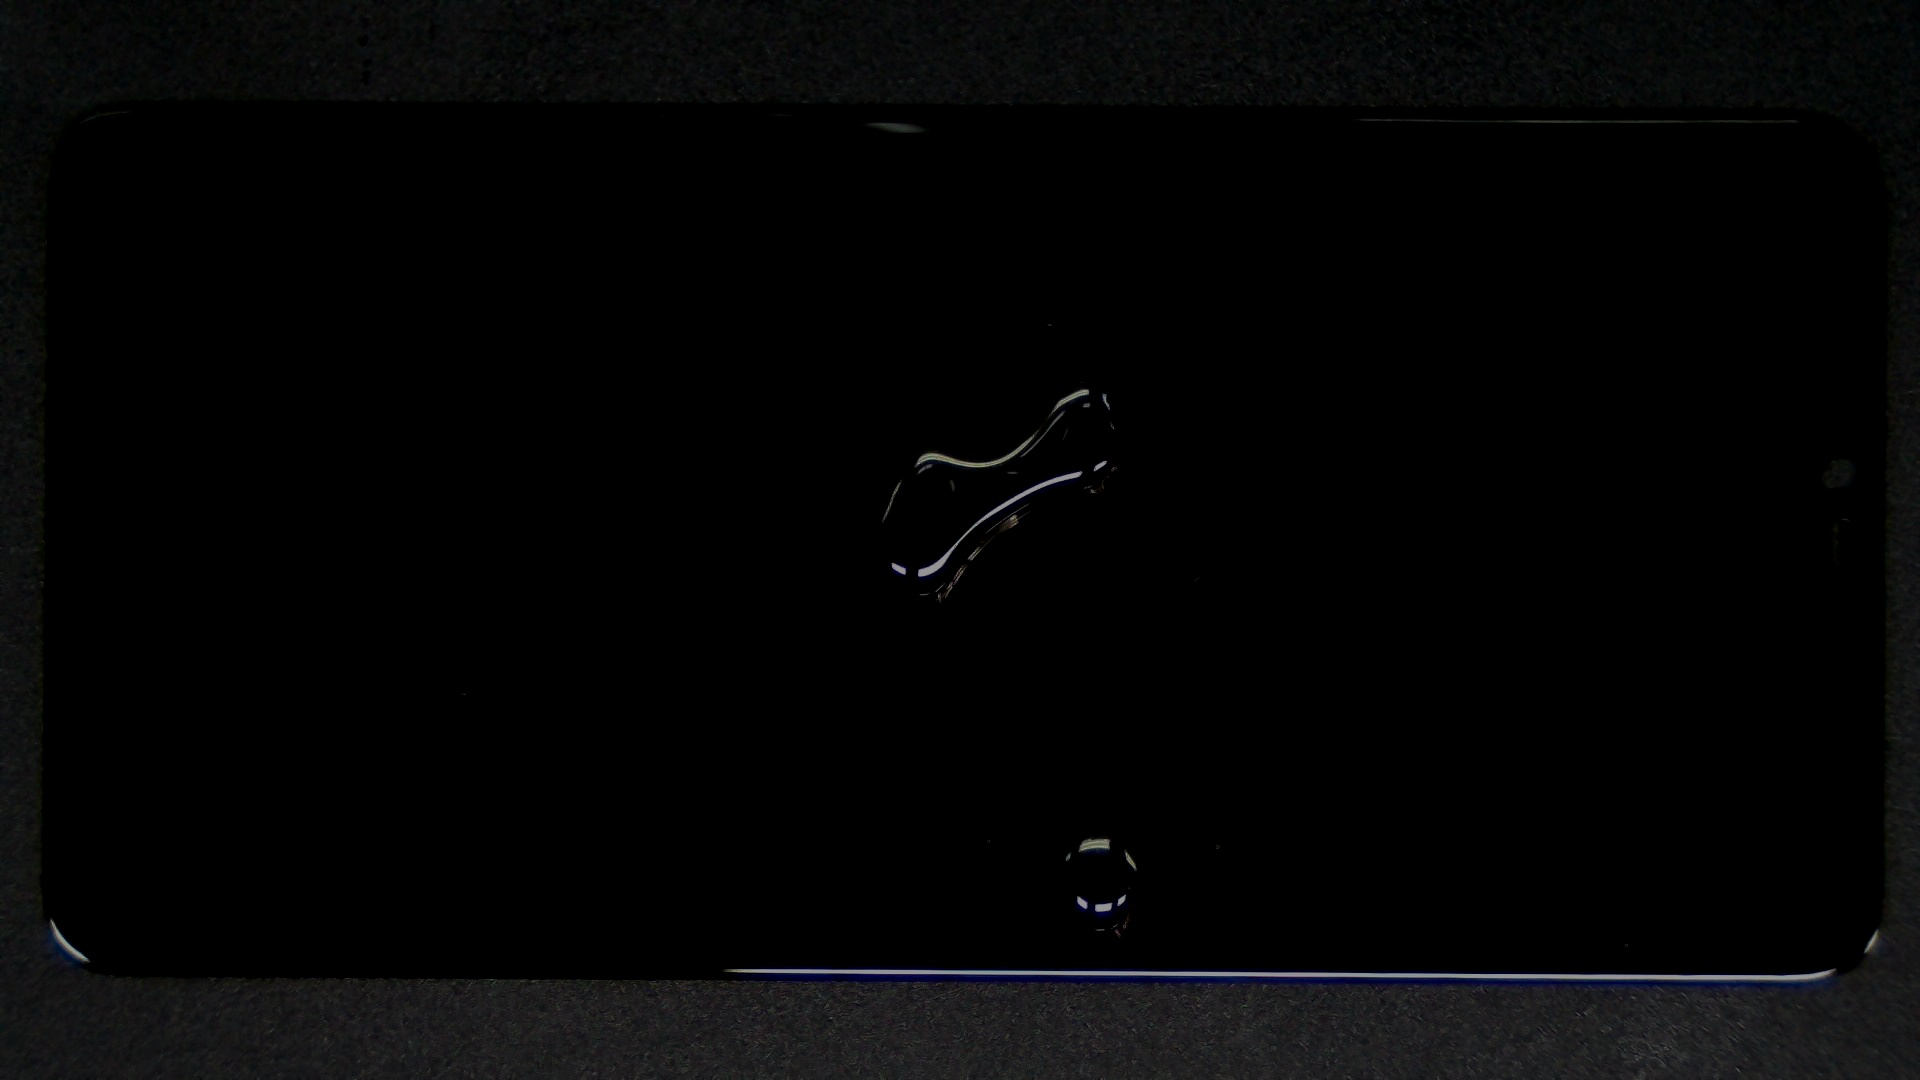oil: (551, 406, 1644, 1080), (542, 189, 1622, 568)
